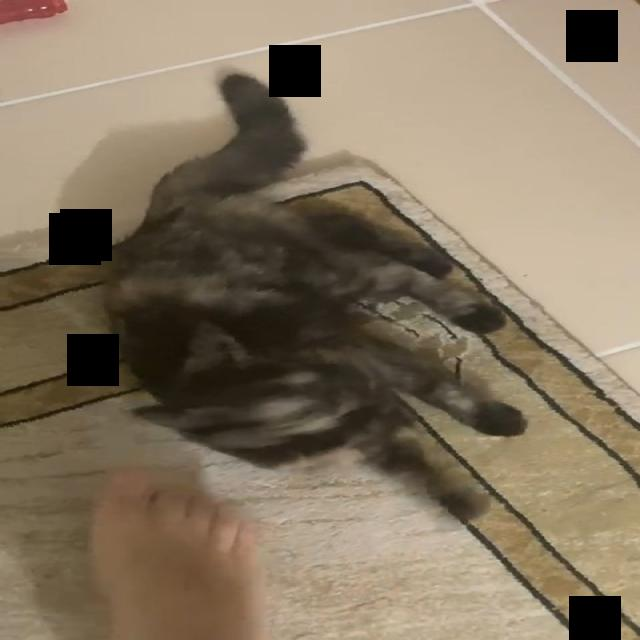authorized: (99, 70, 528, 522)
